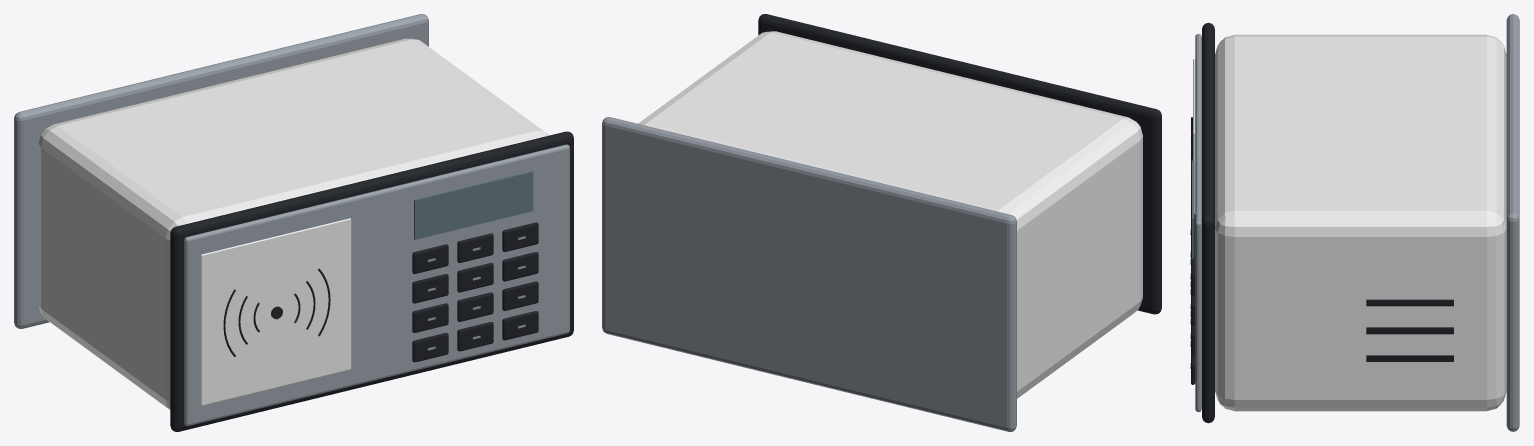
The model's file is access-tag-reader.glb.
3 renders of one model, left to right at view 1: azimuth 30°, elevation 25°; view 2: azimuth 150°, elevation 25°; view 3: azimuth 270°, elevation 25°, orthographic.
Visible parts, largest first — view 1: merged_white, merged_metal, merged_dark, blank_display; view 2: merged_metal, merged_white, merged_dark; view 3: merged_white, merged_metal, merged_dark.
Boxes of the visible parts, x1,y1,x2,y2 form: merged_white: [38, 38, 548, 409]; merged_metal: [14, 14, 569, 425]; merged_dark: [170, 131, 573, 431]; blank_display: [414, 171, 533, 239]; merged_metal: [602, 117, 1016, 431]; merged_white: [638, 31, 1142, 398]; merged_dark: [758, 14, 1161, 314]; merged_white: [1193, 34, 1506, 411]; merged_metal: [1190, 14, 1519, 431]; merged_dark: [1191, 22, 1453, 423].
Size of the model in its own units: 0.22 by 0.11 by 0.1503.
